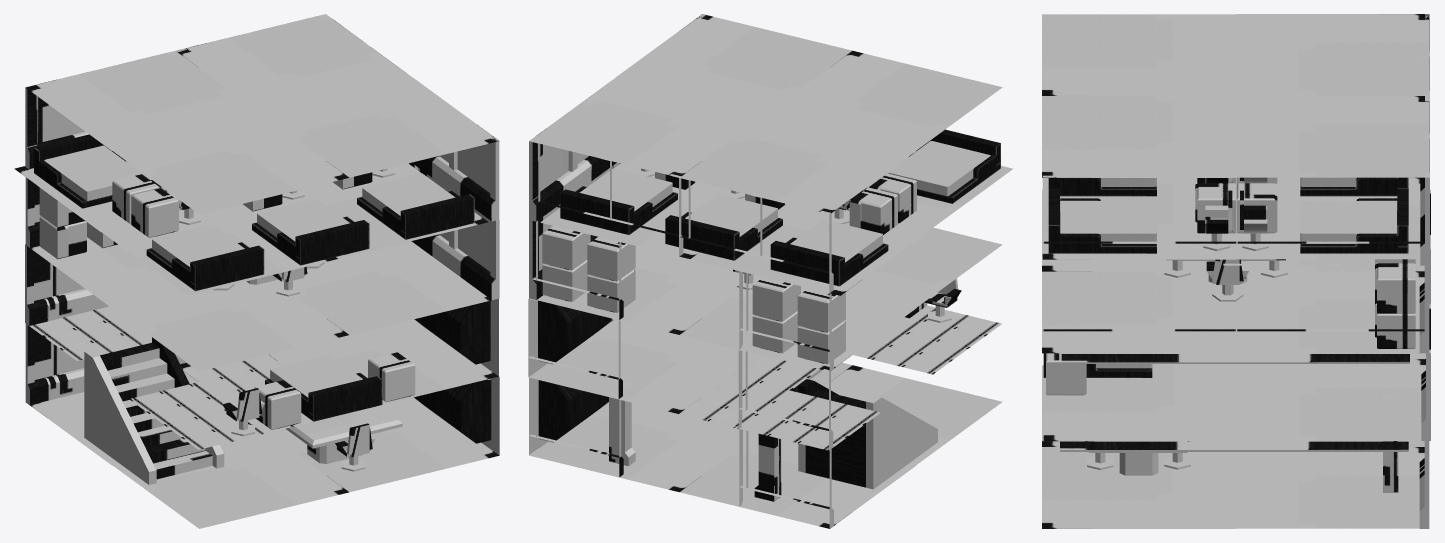
Rendered from sci-fi.glb.
The picture shows the model from 3 angles, left to right: view 1: azimuth 30°, elevation 25°; view 2: azimuth 150°, elevation 25°; view 3: azimuth 270°, elevation 25°; orthographic projection. The views are drawn at different scales.
Parts seen in each view (by area): view 1: pGround_Ceiling_Lv4_BTMRIGHT3; view 2: pGround_Ceiling_Lv4_BTMRIGHT3; view 3: pGround_Ceiling_Lv4_BTMRIGHT3.
Boxes of the visible parts, bbox=[...] form: pGround_Ceiling_Lv4_BTMRIGHT3: bbox=[14, 14, 499, 528]; pGround_Ceiling_Lv4_BTMRIGHT3: bbox=[528, 14, 1013, 528]; pGround_Ceiling_Lv4_BTMRIGHT3: bbox=[1042, 14, 1430, 528].
Size of the model in its own units: 108 by 104 by 105.
Materials: 1 (1 with a texture image).
